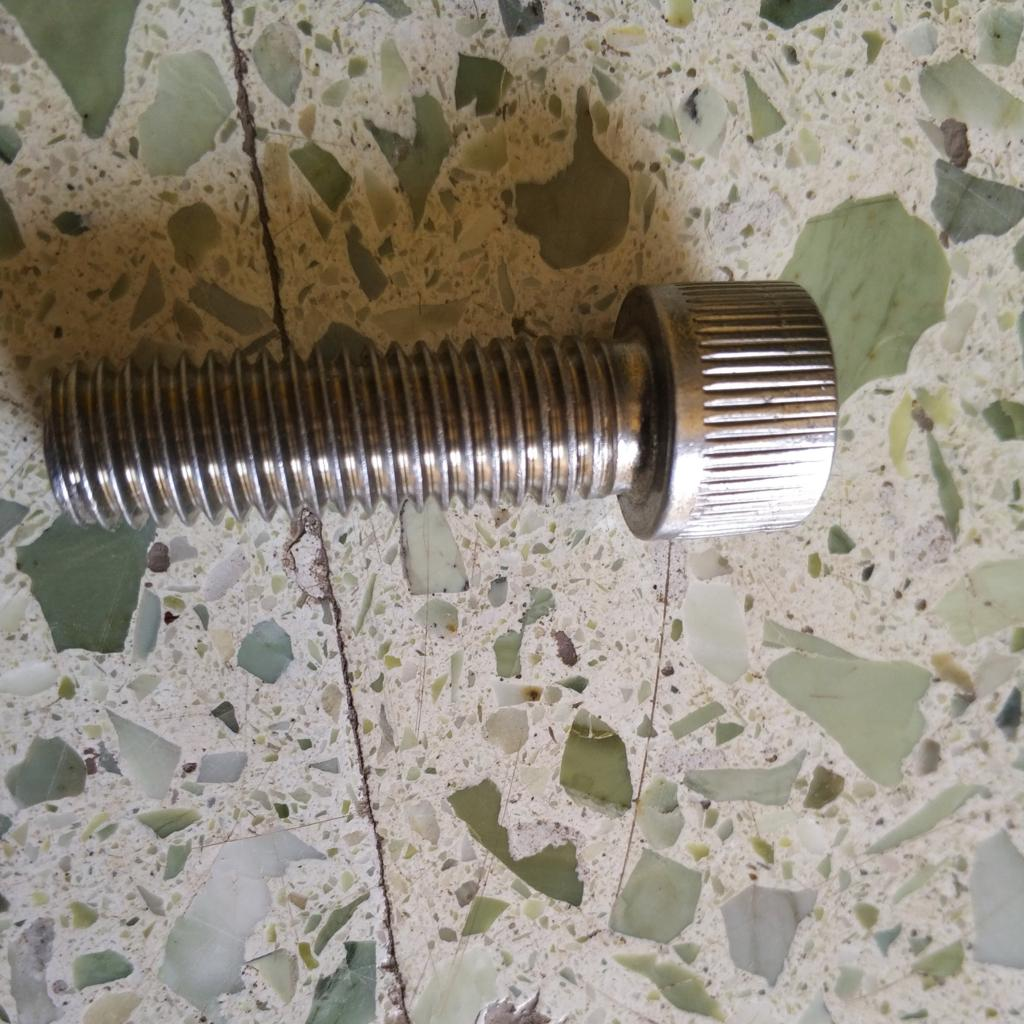screwtype1silver: (30, 272, 846, 550)
